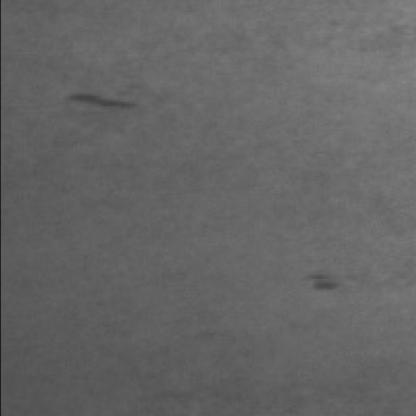inclusion: (64, 87, 148, 122), (302, 272, 347, 302)
